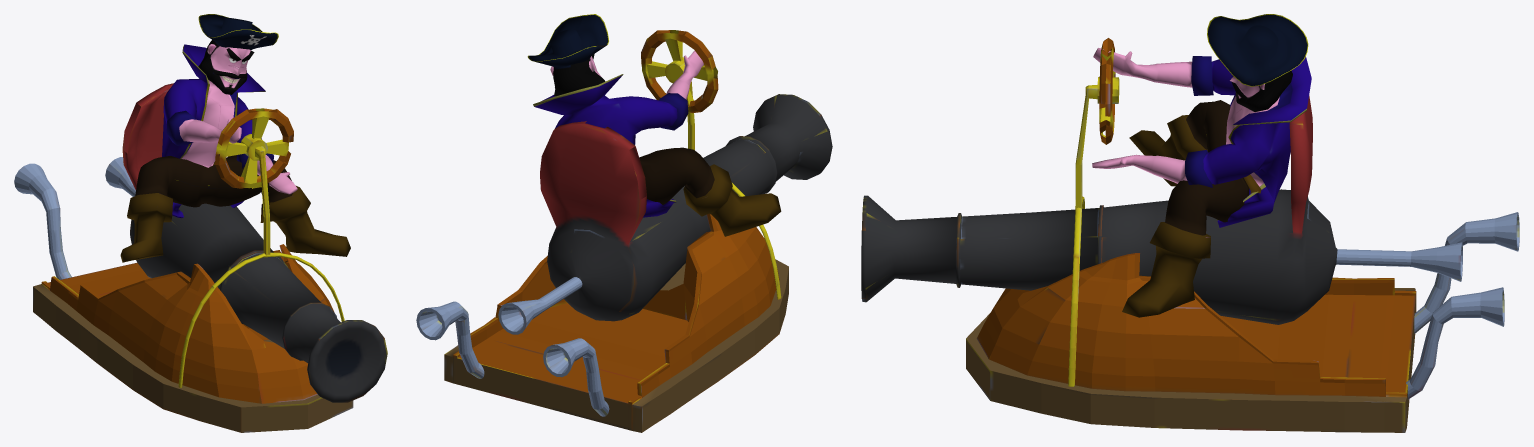
File: pirataGiroDER_000399.obj
3 views of the same model, side by side, from view 1: azimuth 30°, elevation 25°; view 2: azimuth 150°, elevation 25°; view 3: azimuth 270°, elevation 25° (orthographic). The views are drawn at different scales.
Parts seen in each view (by area): view 1: carro_pirata, Pirata_PirataH; view 2: carro_pirata, Pirata_PirataH; view 3: carro_pirata, Pirata_PirataH.
Boxes of the visible parts, bbox=[...] form: carro_pirata: bbox=[14, 83, 387, 432]; Pirata_PirataH: bbox=[120, 14, 350, 262]; carro_pirata: bbox=[416, 30, 832, 432]; Pirata_PirataH: bbox=[527, 14, 781, 236]; carro_pirata: bbox=[861, 38, 1519, 432]; Pirata_PirataH: bbox=[1092, 14, 1311, 317].
Size of the model in its own units: 5.68 by 7.57 by 12.1.
